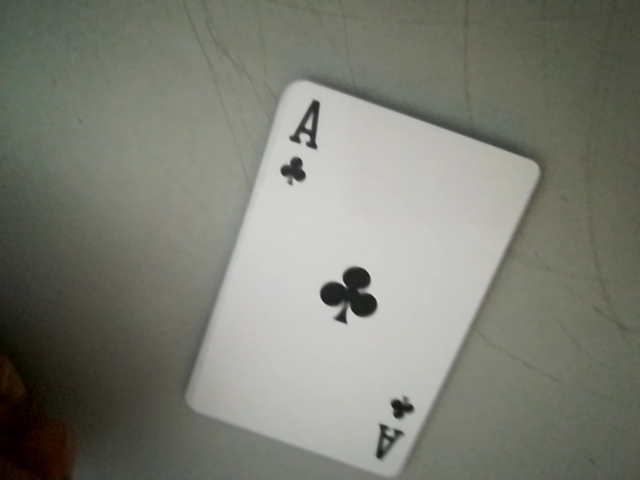mh a: (267, 86, 330, 199), (367, 389, 425, 478)
